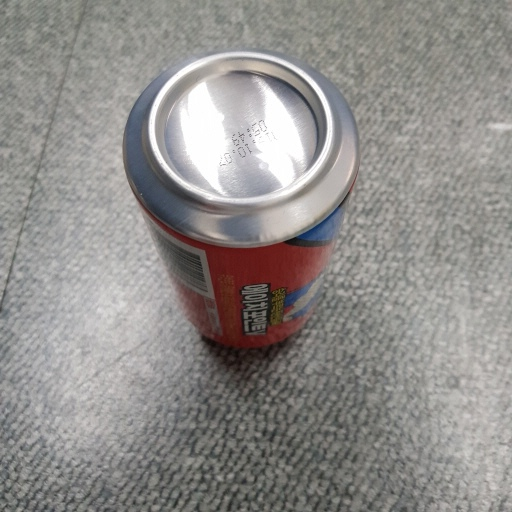Metal_0: (121, 48, 361, 359)
